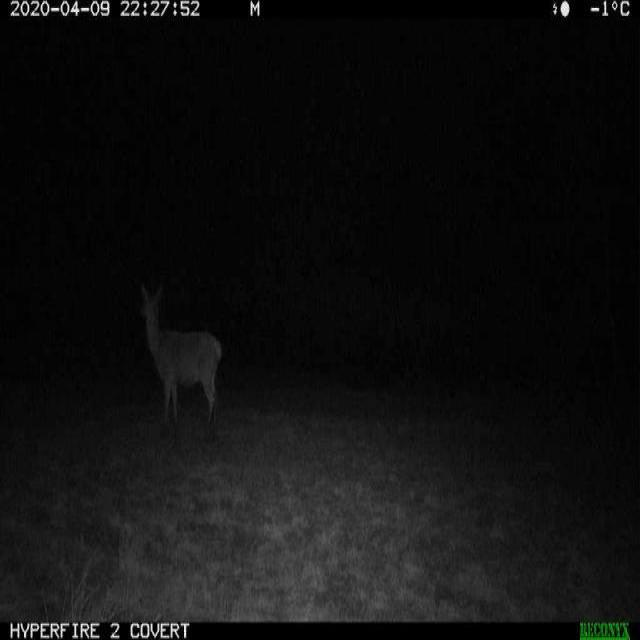deer: (136, 271, 227, 452)
